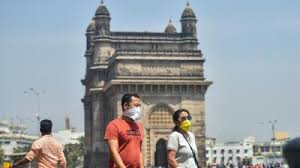mask: (124, 94, 139, 120), (176, 111, 190, 130)
